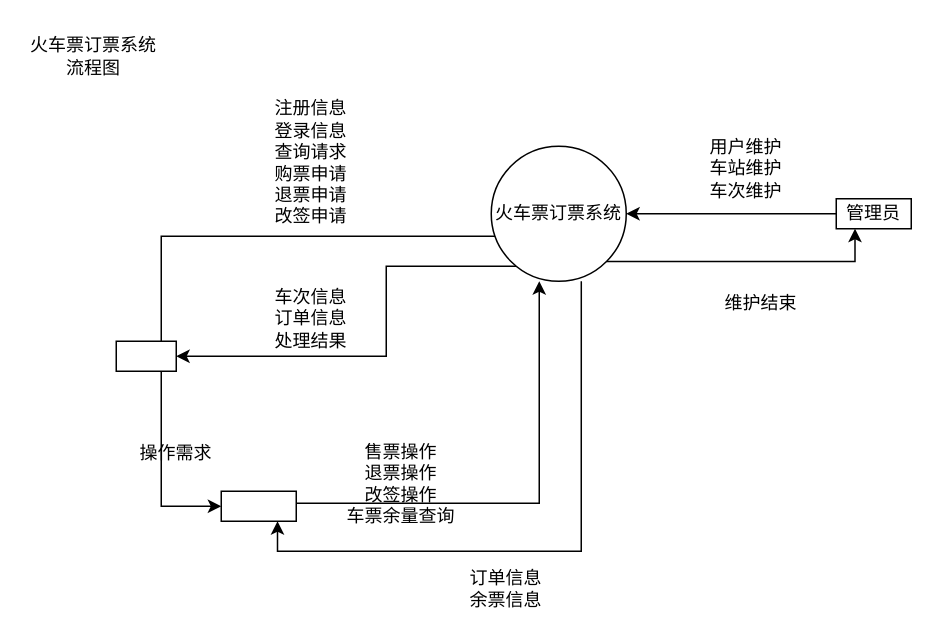
This 938x636 diagram has some shape labels left out. The shapes that lost their labels are listed below. From the top down, each one's centre as x and y in pixels, then its label:
point 145,355: 旅客
point 258,505: 售票员
